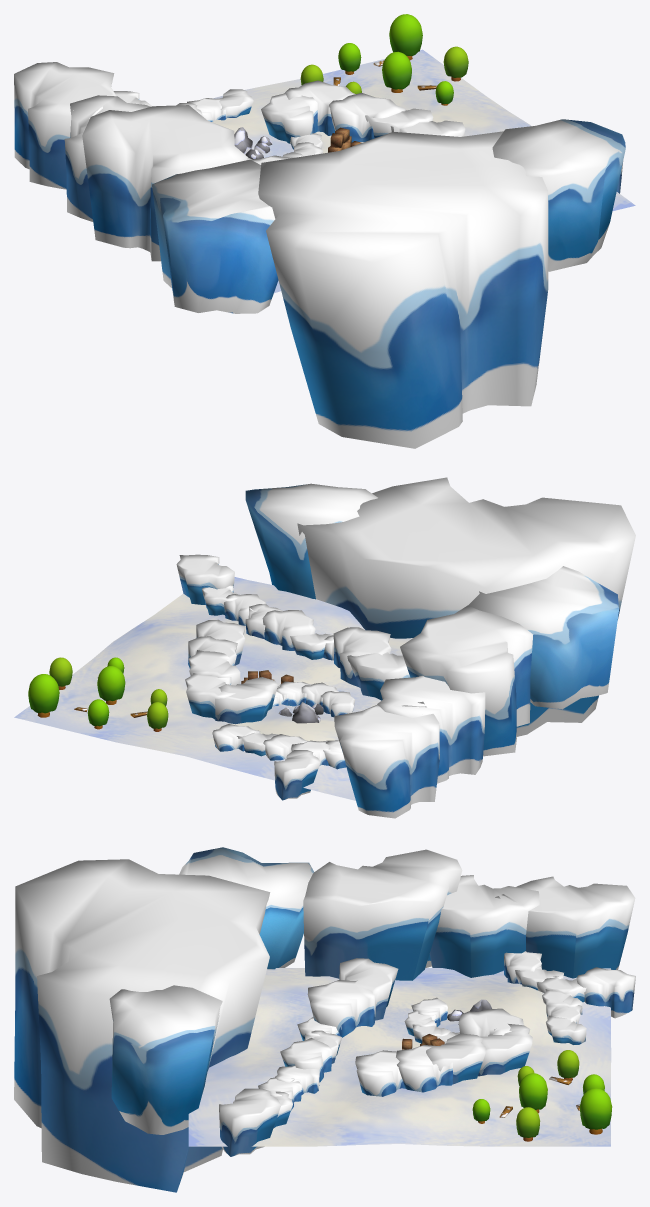
Rendered from IceBigMap5.FBX.
3 views of the same model, one above another, from view 1: azimuth 30°, elevation 25°; view 2: azimuth 150°, elevation 25°; view 3: azimuth 270°, elevation 25° (orthographic). The views are drawn at different scales.
Visible parts, largest first — view 1: Iceberg040, Iceberg009, Iceberg014, Iceberg039, tereno1, Iceberg008, Iceberg013, Iceberg042, Iceberg044, Iceberg041, Icethree033, Iceberg045 (+4 smaller); view 2: Iceberg040, tereno1, Iceberg009, Iceberg014, Iceberg008, Iceberg039, Iceberg013, Iceberg042, Iceberg054, Iceberg027, Iceberg055, Iceberg011 (+21 smaller); view 3: Iceberg040, tereno1, Iceberg014, Iceberg039, Iceberg008, Iceberg013, Iceberg009, Iceberg054, Iceberg027, Iceberg011, Iceberg041, Iceberg044 (+17 smaller).
Boxes of the visible parts, <box> form: Iceberg040: <box>258,131,548,448</box>; Iceberg009: <box>152,159,278,313</box>; Iceberg014: <box>82,105,247,261</box>; Iceberg039: <box>492,119,625,271</box>; tereno1: <box>212,49,635,293</box>; Iceberg008: <box>14,62,116,189</box>; Iceberg013: <box>64,95,150,221</box>; Iceberg042: <box>261,93,317,143</box>; Iceberg044: <box>329,93,405,142</box>; Iceberg041: <box>285,80,355,135</box>; Icethree033: <box>389,14,422,60</box>; Iceberg045: <box>365,108,433,137</box>; Iceberg040: <box>297,477,635,736</box>; tereno1: <box>14,577,412,800</box>; Iceberg009: <box>468,566,618,709</box>; Iceberg014: <box>400,605,533,756</box>; Iceberg008: <box>334,701,439,818</box>; Iceberg039: <box>245,483,377,599</box>; Iceberg013: <box>377,675,485,783</box>; Iceberg042: <box>215,677,277,724</box>; Iceberg054: <box>176,554,234,604</box>; Iceberg027: <box>333,627,391,686</box>; Iceberg055: <box>347,652,410,700</box>; Iceberg011: <box>274,750,320,800</box>; Iceberg040: <box>14,859,270,1192</box>; tereno1: <box>188,968,611,1146</box>; Iceberg014: <box>303,849,462,980</box>; Iceberg039: <box>109,985,222,1134</box>; Iceberg008: <box>495,876,635,978</box>; Iceberg013: <box>429,875,539,977</box>; Iceberg009: <box>179,847,313,969</box>; Iceberg054: <box>219,1088,281,1156</box>; Iceberg027: <box>307,980,375,1037</box>; Iceberg011: <box>576,967,635,1018</box>; Iceberg041: <box>478,1024,532,1076</box>; Iceberg044: <box>426,1033,485,1084</box>.
Bounding box in the file's own units: 628 × 257 × 736.
